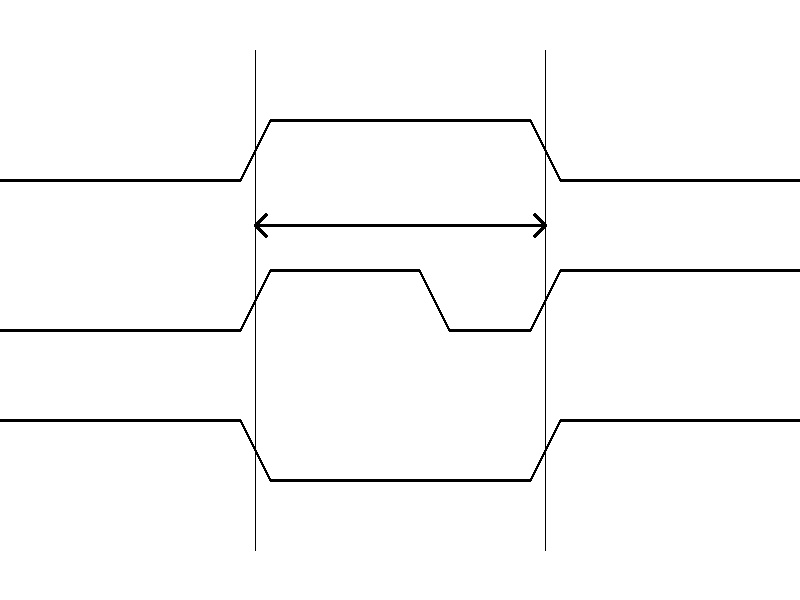double_arrow: (255, 210, 545, 240)
